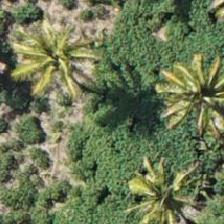coconut_tree: (12, 15, 102, 105), (114, 150, 204, 223)
